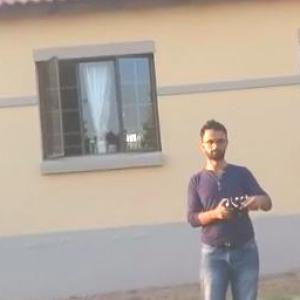follow: (183, 115, 281, 299)
